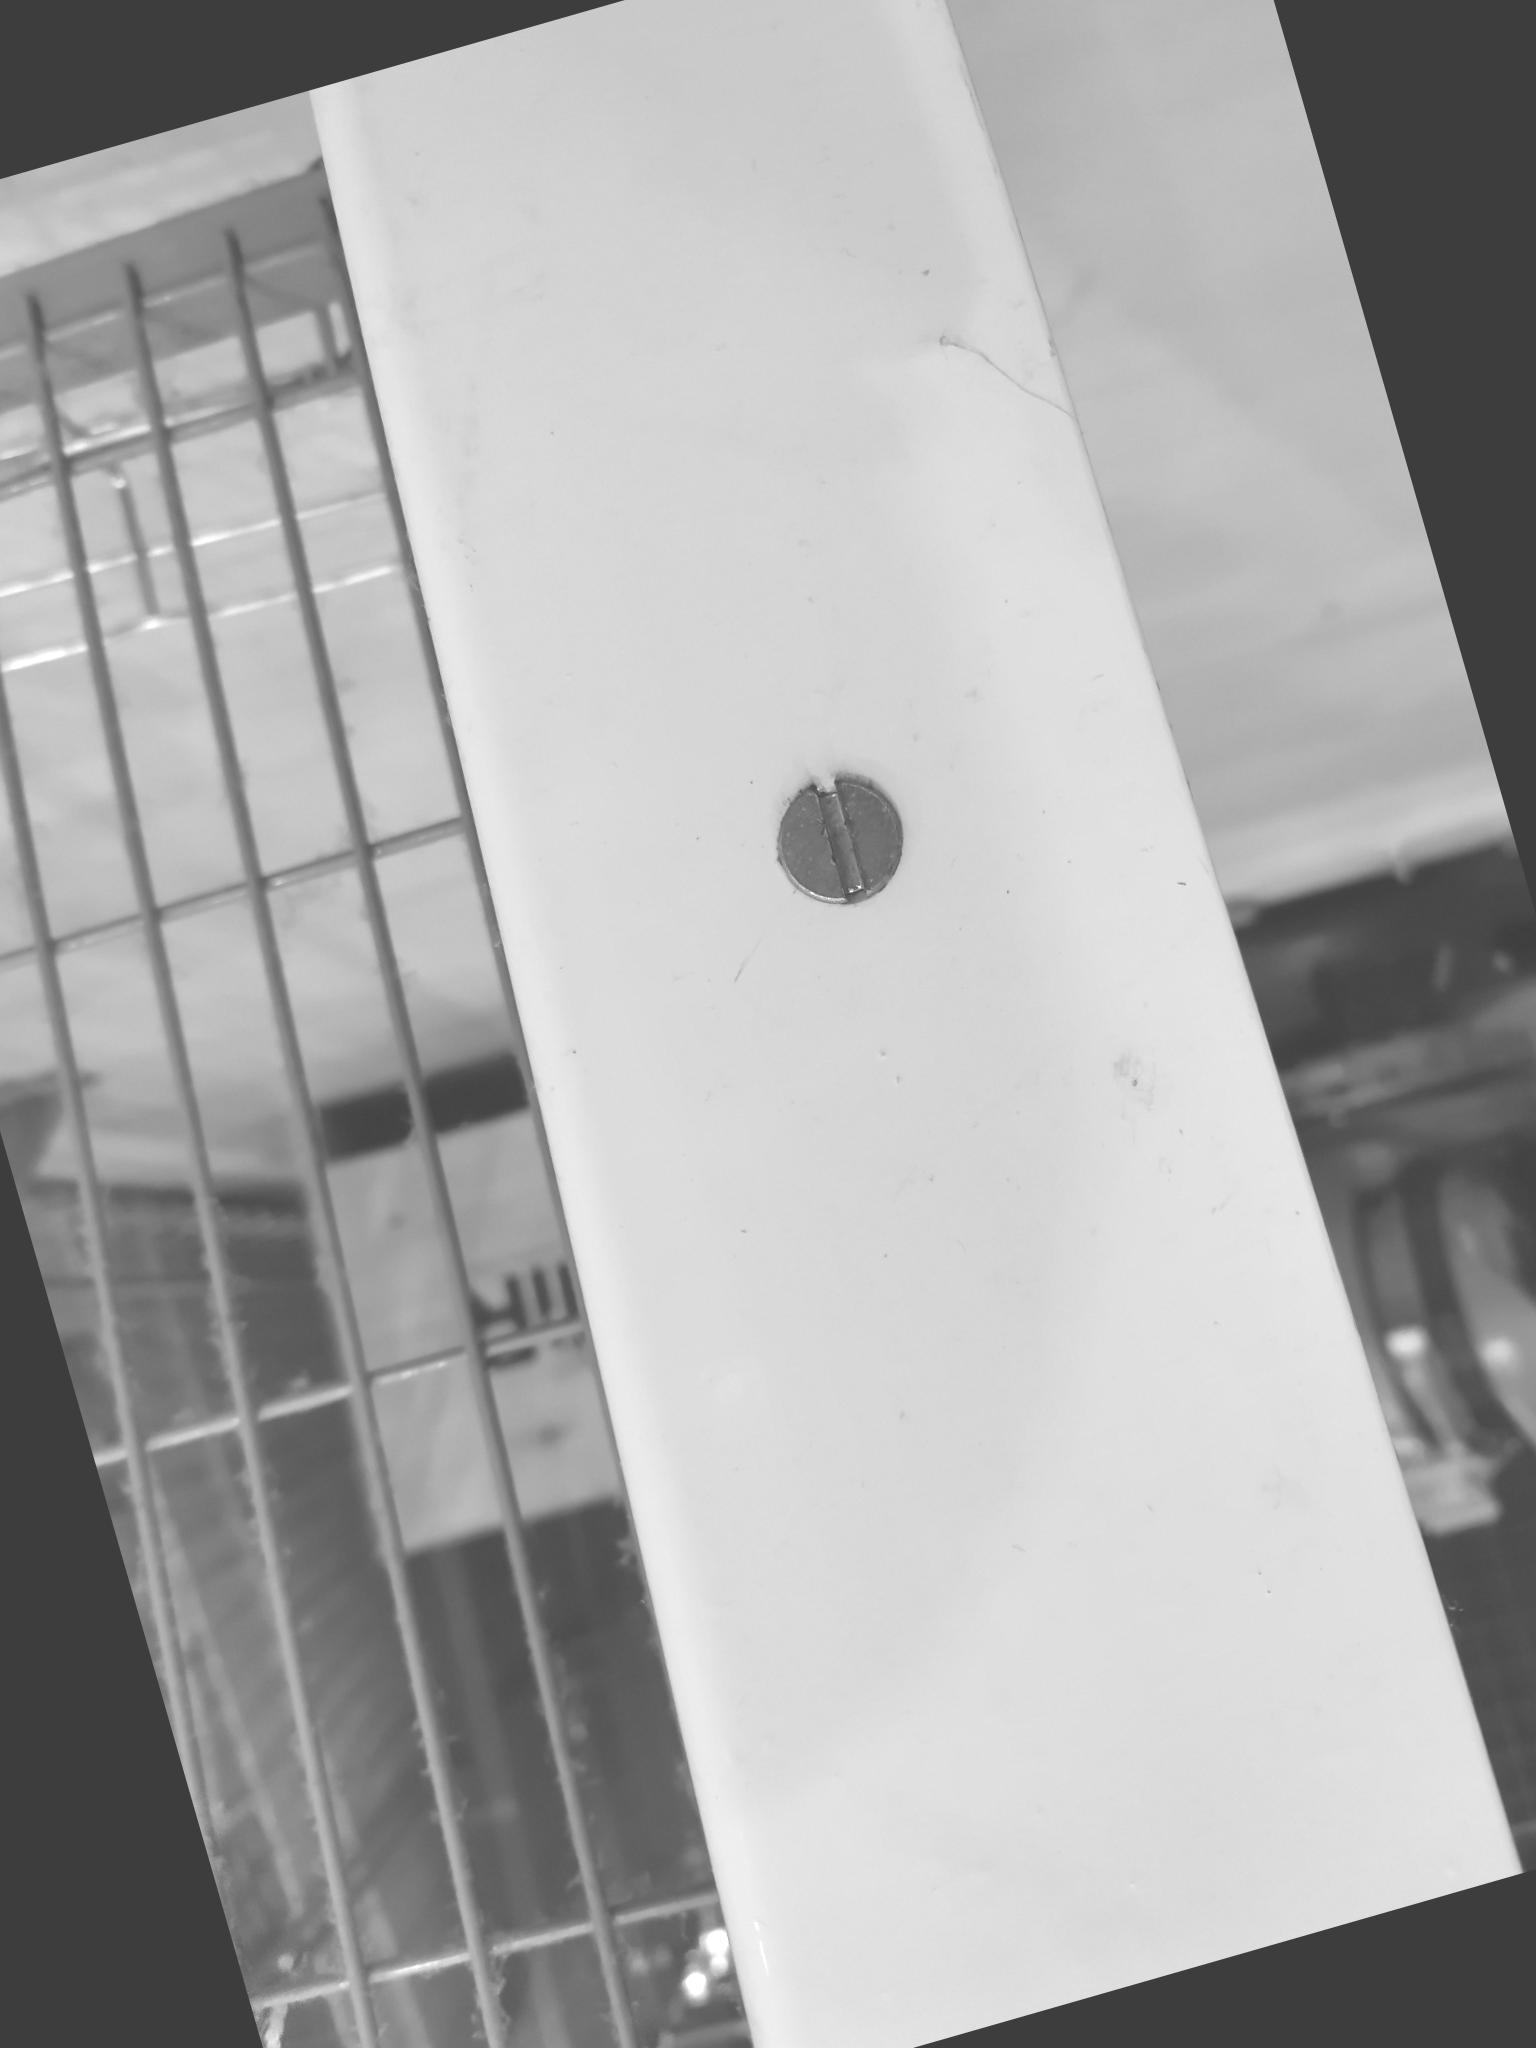slotted: (747, 747, 923, 918)
